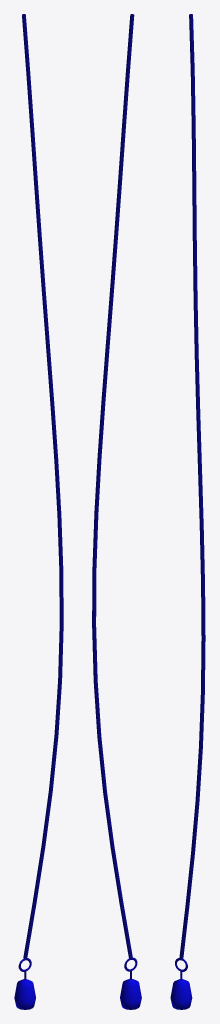
Rendered from tether_line.glb.
The picture shows the model from 3 angles, left to right: view 1: azimuth 30°, elevation 25°; view 2: azimuth 210°, elevation 25°; view 3: azimuth 330°, elevation 25°; orthographic projection.
Parts seen in each view (by area): view 1: tether_line; view 2: tether_line; view 3: tether_line.
Boxes of the visible parts, x1,y1,x2,y2 form: tether_line: [14, 14, 63, 1009]; tether_line: [92, 14, 141, 1009]; tether_line: [170, 14, 205, 1009].
Size of what is drawn, in the model's own units: 0.2555 by 6 by 0.1623.
